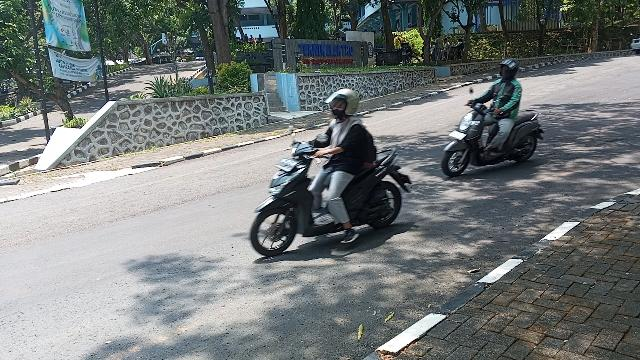helm: (327, 89, 360, 119), (502, 60, 519, 79)
motor: (251, 144, 411, 258), (443, 101, 546, 178)
